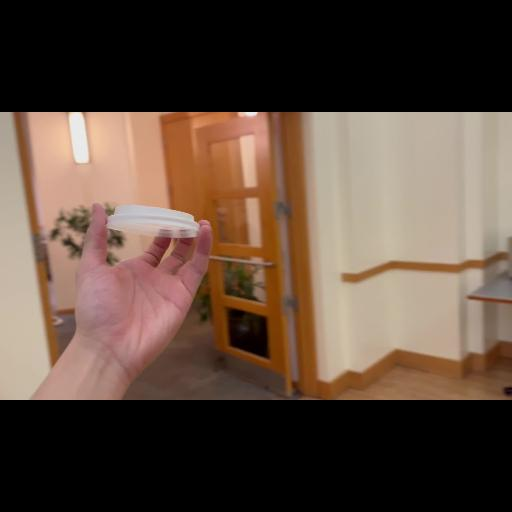lp_cup_lids: (104, 204, 202, 238)
